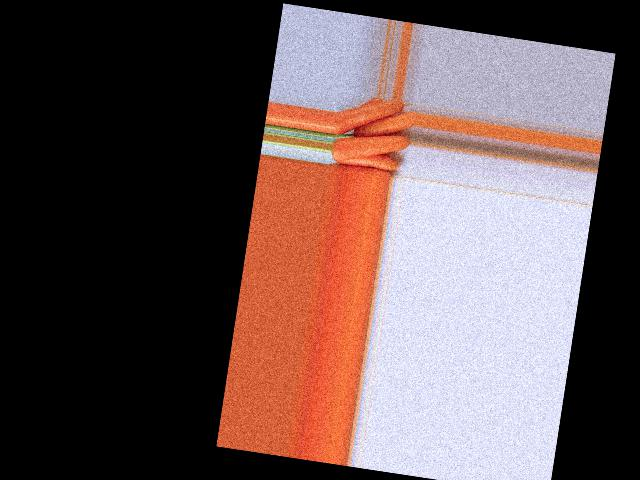carrot: (331, 147, 401, 177)
